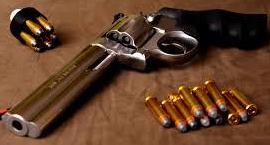gun: (1, 1, 270, 145)
